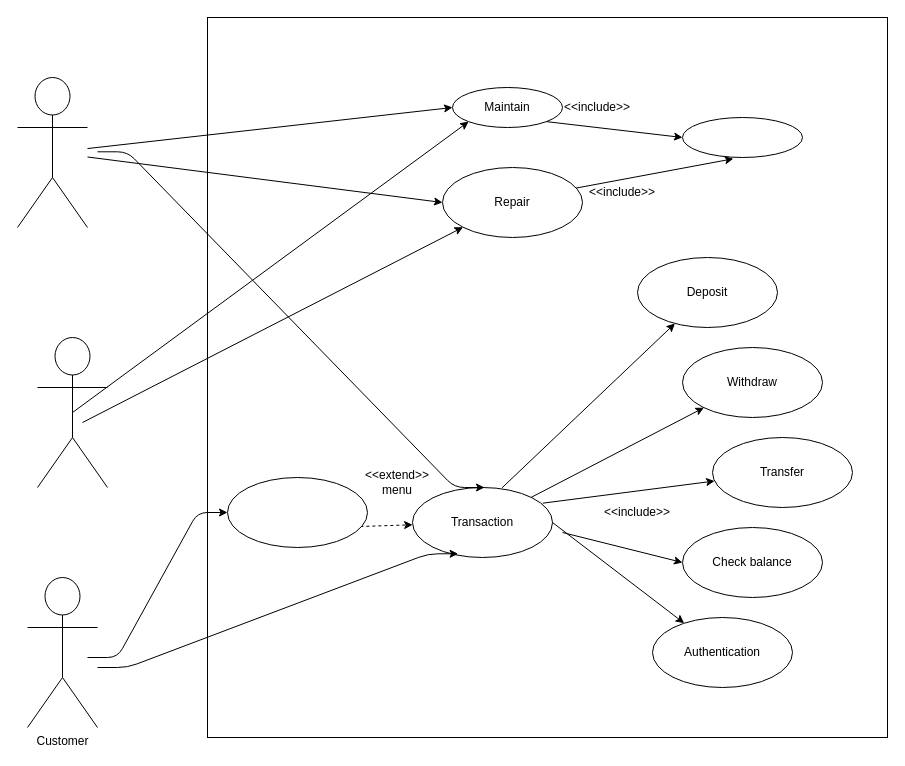
Image size: 905x766. Some labels were removed from this diagram. Each missing label, with the centre of its shape:
ATM Technician: [72,412]
Bank: [52,152]
Diagnostics: [742,137]
help: [297,512]
